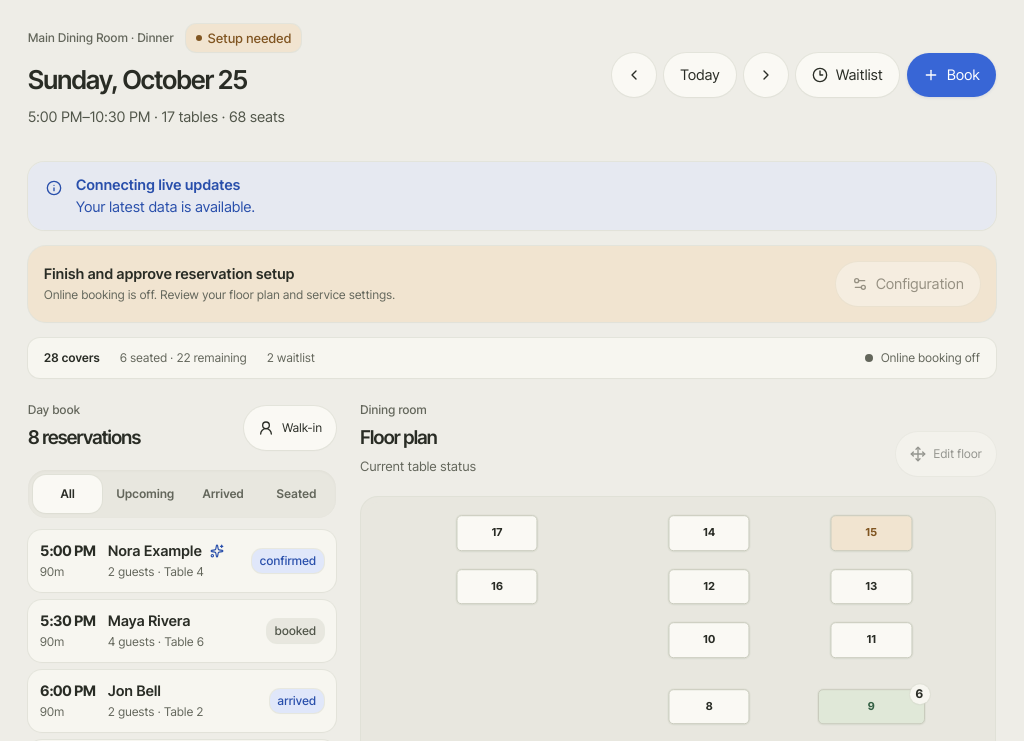
it: reservation host capability affordances › lets an operate-only host run service without granting configuration
Expected: the button "Book" is enabled, [907,53,996,97]
Expected: the button "Waitlist" is enabled, [796,53,899,97]
Click the button "5:00 PM 90m Nora Example 2 guests · Table 4 confirmed" at (182, 561), box [28,530,336,592]
(page scrolled)
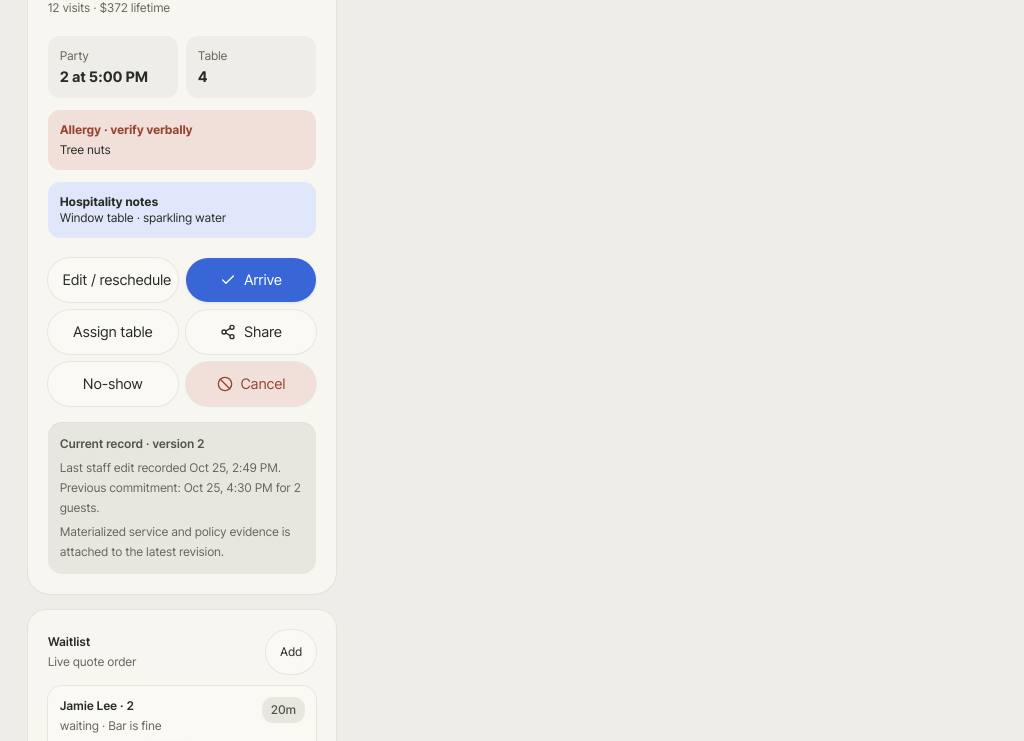
Now the button "Arrive" is enabled, box [186,258,316,302]
Now the button "Edit / reschedule" is enabled, box [48,258,178,302]
Now the button "Cancel" is enabled, box [186,362,316,406]
